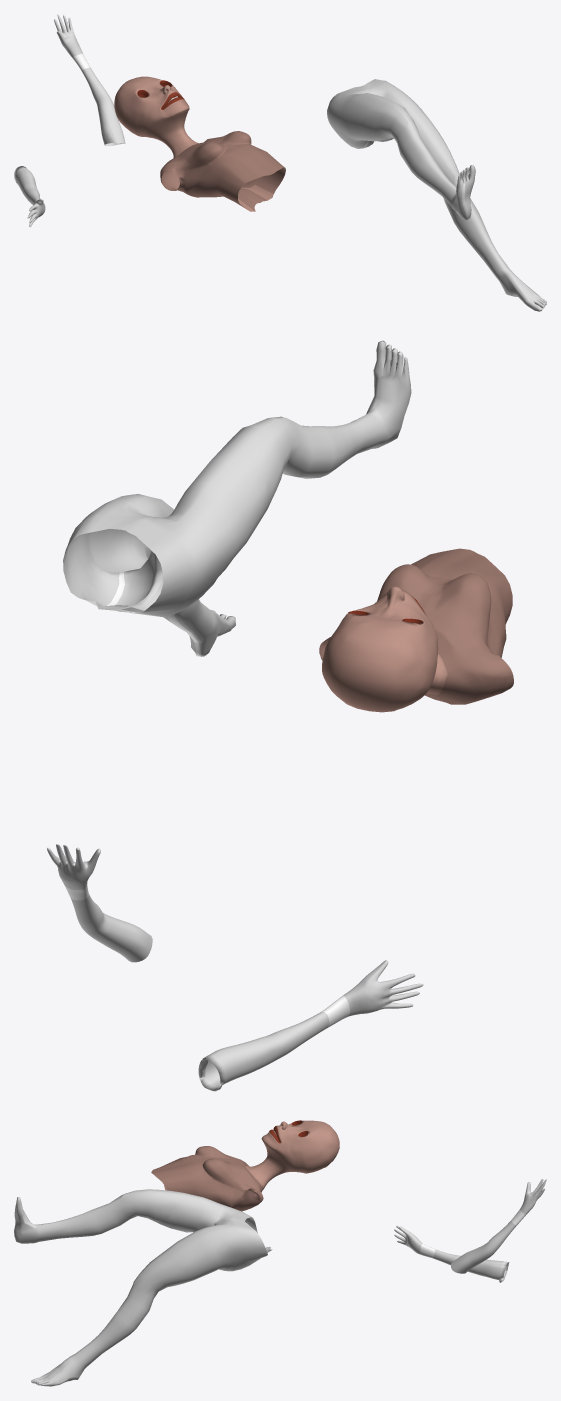
Rendered from jofermodel.fbx.
The picture shows the model from 3 angles, top to bottom: view 1: azimuth 30°, elevation 25°; view 2: azimuth 150°, elevation 25°; view 3: azimuth 270°, elevation 25°; orthographic projection. The views are drawn at different scales.
Parts seen in each view (by area): view 1: polySurface2.005, polySurface2.003, polySurface2.002, polySurface2.001; view 2: polySurface2.005, polySurface2.003, polySurface2.001, polySurface2.002; view 3: polySurface2.005, polySurface2.003, polySurface2.002, polySurface2.001.
Part boxes in pixels (x1,y1,x2,y2): polySurface2.005: [327, 79, 546, 311]; polySurface2.003: [114, 76, 285, 211]; polySurface2.002: [54, 14, 125, 146]; polySurface2.001: [14, 166, 45, 226]; polySurface2.005: [63, 340, 411, 656]; polySurface2.003: [319, 548, 513, 712]; polySurface2.001: [198, 960, 423, 1091]; polySurface2.002: [47, 844, 152, 962]; polySurface2.005: [14, 1189, 272, 1386]; polySurface2.003: [151, 1120, 339, 1211]; polySurface2.002: [450, 1179, 546, 1273]; polySurface2.001: [394, 1225, 509, 1282].
Size of the model in its own units: 137 by 76.82 by 220.
